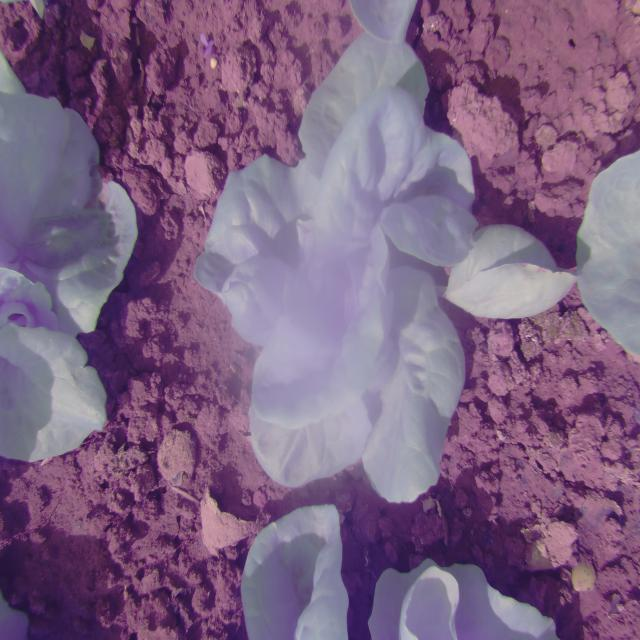vege: (190, 32, 571, 504)
